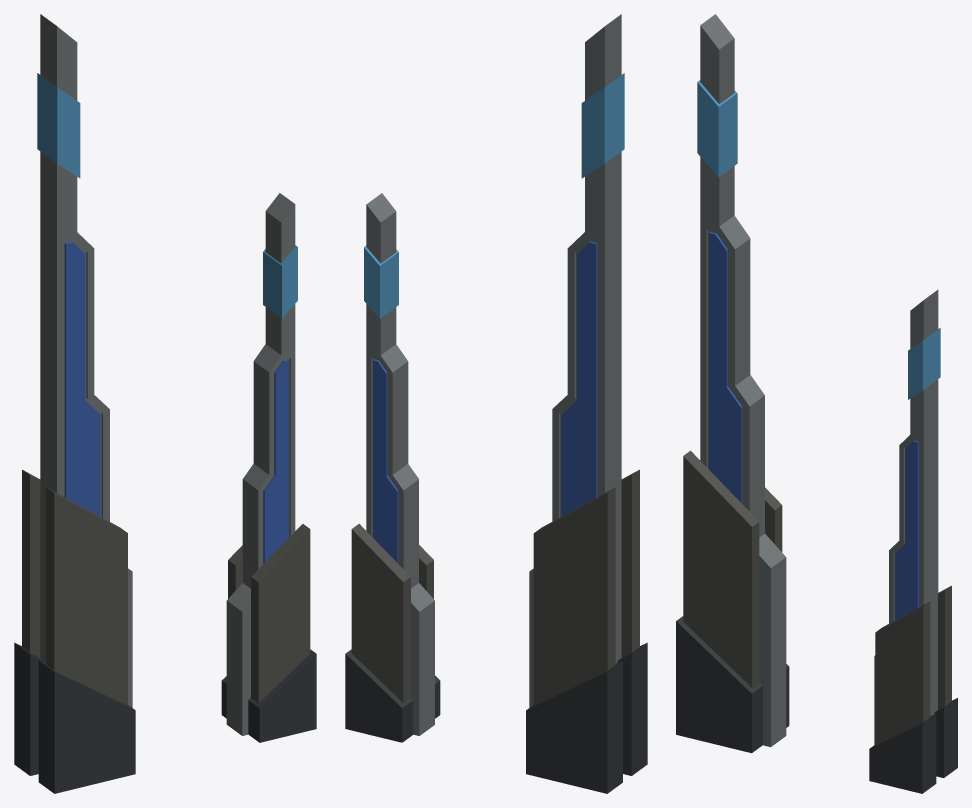
The model's file is SP_Sci-fi_Antenna.fbx.
3 renders of one model, left to right at view 1: azimuth 30°, elevation 25°; view 2: azimuth 150°, elevation 25°; view 3: azimuth 330°, elevation 25°, orthographic. The views are drawn at different scales.
Visible parts, largest first — view 1: SP_Sci_fi_Antenna; view 2: SP_Sci_fi_Antenna; view 3: SP_Sci_fi_Antenna.
Boxes of the visible parts, x1,y1,x2,y2 form: SP_Sci_fi_Antenna: [14, 14, 316, 793]; SP_Sci_fi_Antenna: [345, 14, 647, 793]; SP_Sci_fi_Antenna: [676, 14, 957, 793].
Size of the model in its own units: 134 by 368 by 35.44.
1 material, 1 textured.
